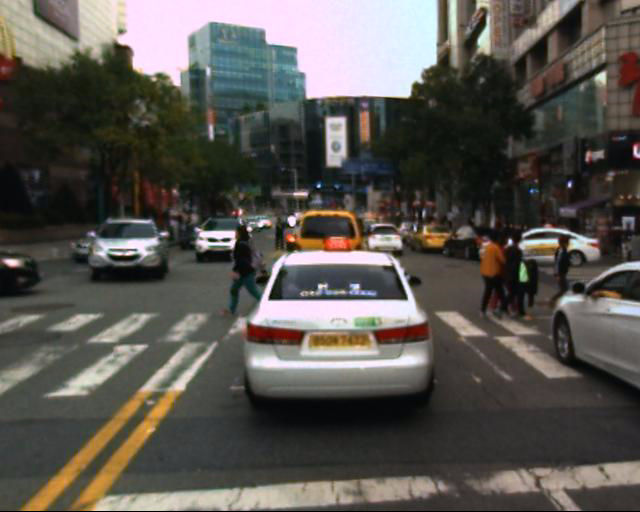person: (208, 219, 269, 329), (492, 222, 539, 328), (471, 226, 517, 331), (536, 229, 581, 315), (599, 212, 640, 261), (271, 212, 291, 253)
